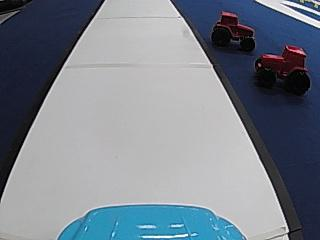Tracktor: (253, 41, 309, 94), (210, 7, 257, 52)
